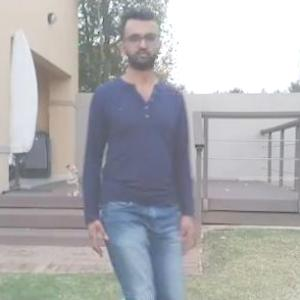follow: (110, 43, 203, 299)
